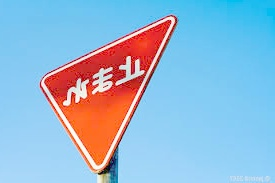Regulatory_sign_triangle: (35, 11, 184, 181)
